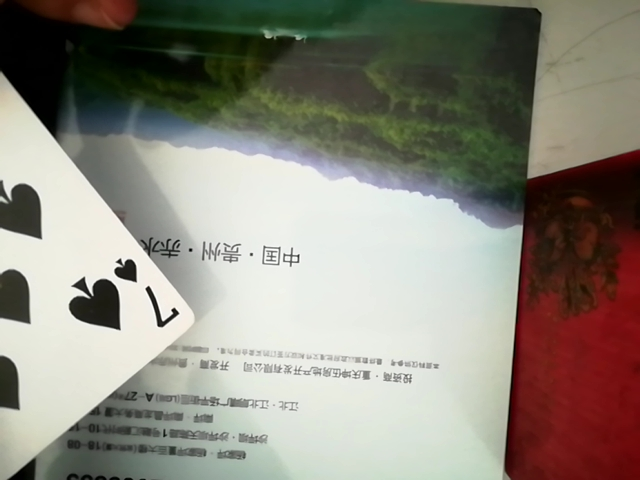ht 7: (0, 45, 204, 480)
